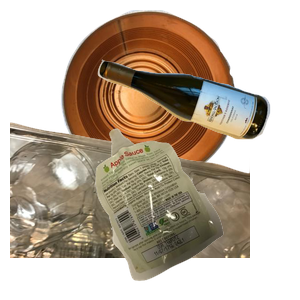glass: (95, 57, 300, 189)
metal: (58, 10, 289, 186)
plastic: (10, 120, 250, 300)
trash: (93, 126, 300, 300)
